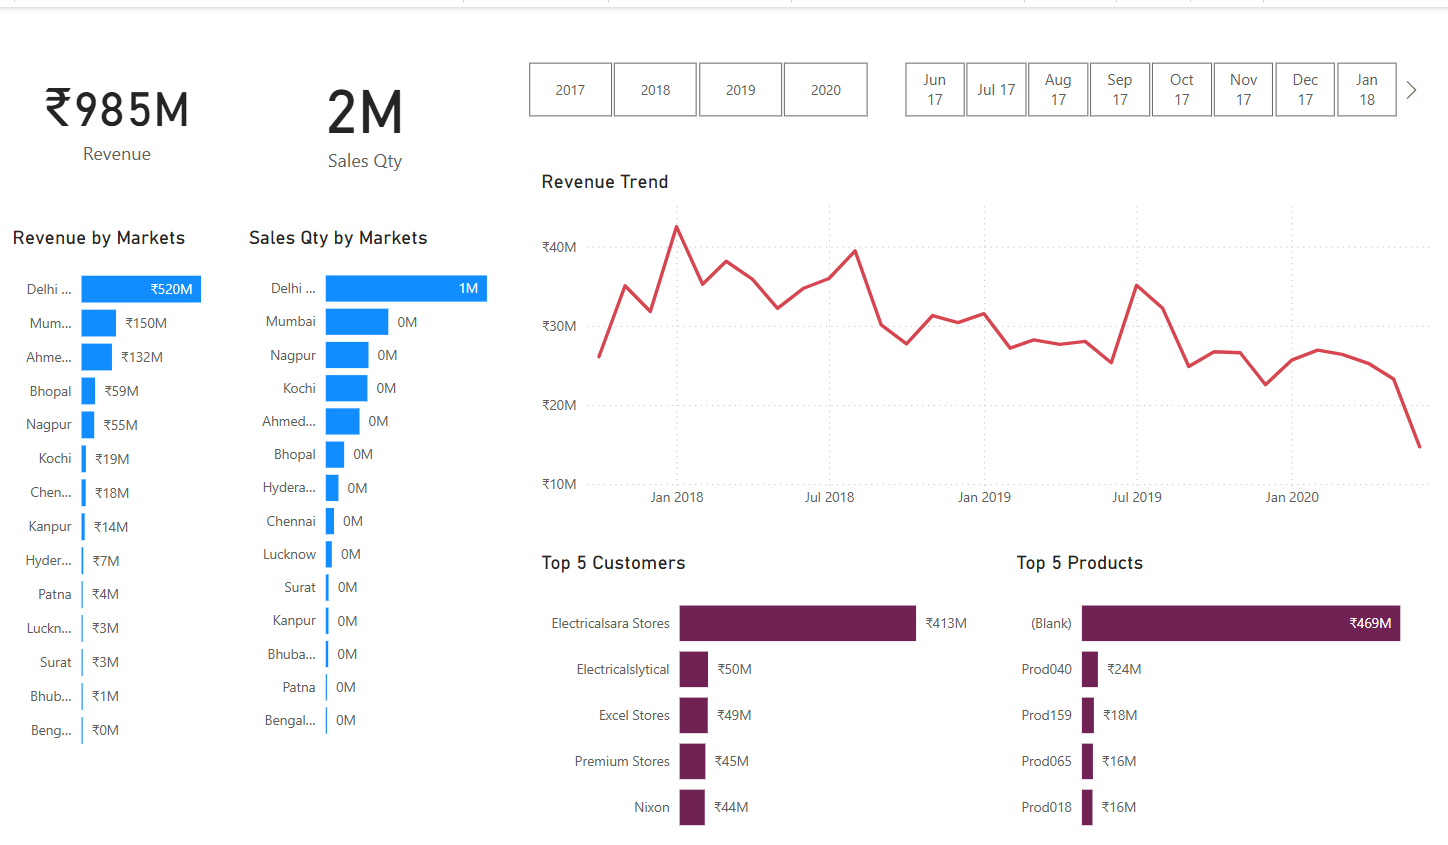

Layout of this report page (visuals, bound fields, positions):
{"tool":"powerbi","page":{"name":"Key Insights","canvas":[1280,720],"ordinal":0},"visuals":[{"type":"card","fields":{"Values":["Basemeasures.Revenue"]},"box":[8.1,9.3,194.2,131.4],"z":0},{"type":"card","fields":{"Values":["Basemeasures.Sales Qty"]},"box":[215.1,12.8,215.1,122.1],"z":1000},{"type":"barChart","title":"Revenue by Markets","fields":{"Y":["Basemeasures.Revenue"],"Category":["sales markets.markets_name"]},"box":[8.1,170.9,214,473.3],"z":2000},{"type":"barChart","title":"Sales Qty by Markets","fields":{"Y":["Basemeasures.Sales Qty"],"Category":["sales markets.markets_name"]},"box":[215.1,170.9,241.9,464],"z":3000},{"type":"slicer","fields":{"Values":["sales date.year"]},"box":[440.7,19.8,347.7,61.6],"z":4000},{"type":"slicer","fields":{"Values":["sales date.cy_date"]},"box":[772.1,19.8,482.6,61.6],"z":5000},{"type":"barChart","title":"Top 5 Customers","fields":{"Y":["Basemeasures.Revenue"],"Category":["sales customers.custmer_name"]},"box":[473.3,455.8,391.9,264],"z":6000},{"type":"barChart","title":"Top 5 Products","fields":{"Y":["Basemeasures.Revenue"],"Category":["sales products.product_code"]},"box":[890.7,455.8,389.5,264],"z":7000},{"type":"lineChart","title":"Revenue Trend","fields":{"Y":["Basemeasures.Revenue"],"Category":["sales date.cy_date"]},"box":[473.3,120.9,807,307],"z":8000}]}

Visuals, with their boxes on the page's 1280x720 design canvas (x1, y1, x2, y2). These are canvas units, not pixel positions in the 1448x845 screenshot, which may show the page scaled, cropped or inside an application window:
card - Basemeasures.Revenue: <box>8,9,202,141</box>
card - Basemeasures.Sales Qty: <box>215,13,430,135</box>
"Revenue by Markets" barChart: <box>8,171,222,644</box>
"Sales Qty by Markets" barChart: <box>215,171,457,635</box>
slicer - sales date.year: <box>441,20,788,81</box>
slicer - sales date.cy_date: <box>772,20,1255,81</box>
"Top 5 Customers" barChart: <box>473,456,865,720</box>
"Top 5 Products" barChart: <box>891,456,1280,720</box>
"Revenue Trend" lineChart: <box>473,121,1280,428</box>
